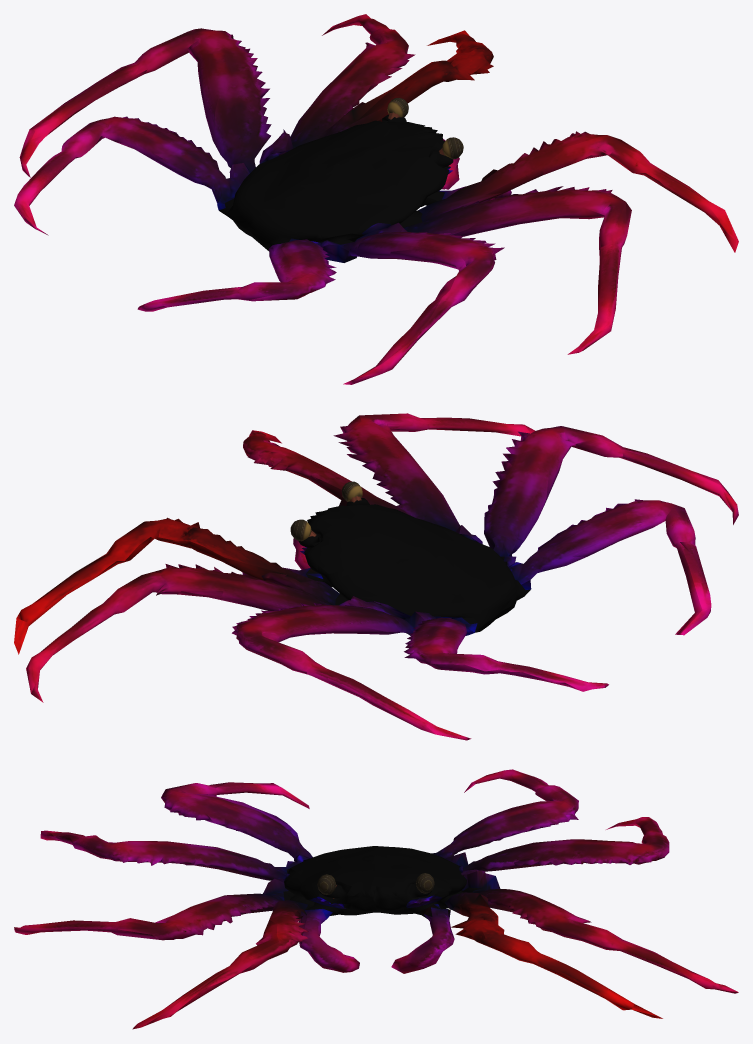
File: sally_lightfoot.glb
3 renders of one model, top to bottom at view 1: azimuth 30°, elevation 25°; view 2: azimuth 150°, elevation 25°; view 3: azimuth 270°, elevation 25°, orthographic. The views are drawn at different scales.
Visible parts, largest first — view 1: Legs, Body, Eyes; view 2: Legs, Body, Eyes; view 3: Legs, Body, Claws, Eyes.
Boxes of the visible parts, <box> form: Legs: <box>14,14,738,384</box>; Body: <box>219,114,453,251</box>; Eyes: <box>387,98,463,159</box>; Legs: <box>14,413,738,740</box>; Body: <box>298,498,530,632</box>; Eyes: <box>290,481,362,541</box>; Legs: <box>14,769,738,1029</box>; Body: <box>283,846,481,915</box>; Claws: <box>299,895,454,973</box>; Eyes: <box>317,873,434,898</box>.
Bounding box in the file's own units: 2.68 × 0.4328 × 3.44.
2 materials, 2 textured.
